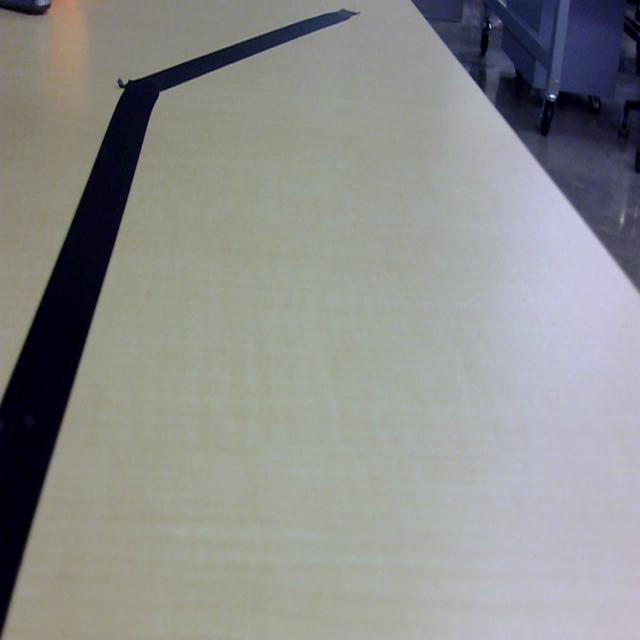tape: (0, 4, 374, 640)
